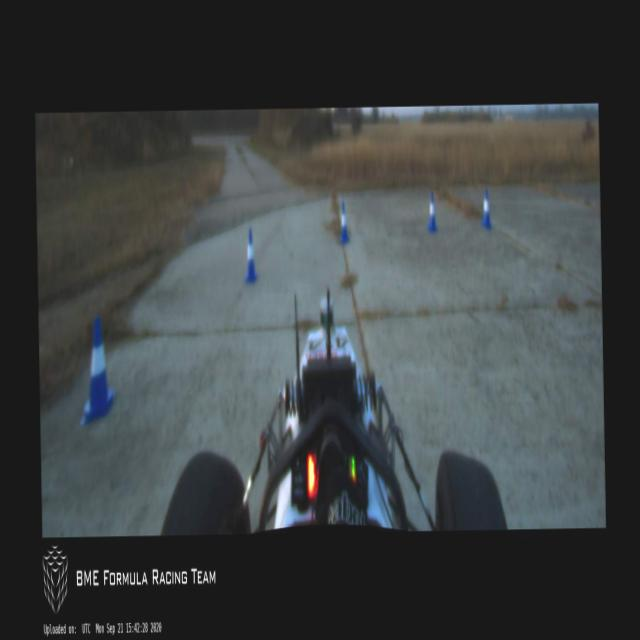blue_cone: (77, 318, 116, 426), (244, 227, 256, 280), (481, 188, 492, 228), (339, 202, 349, 242), (426, 192, 436, 232)
